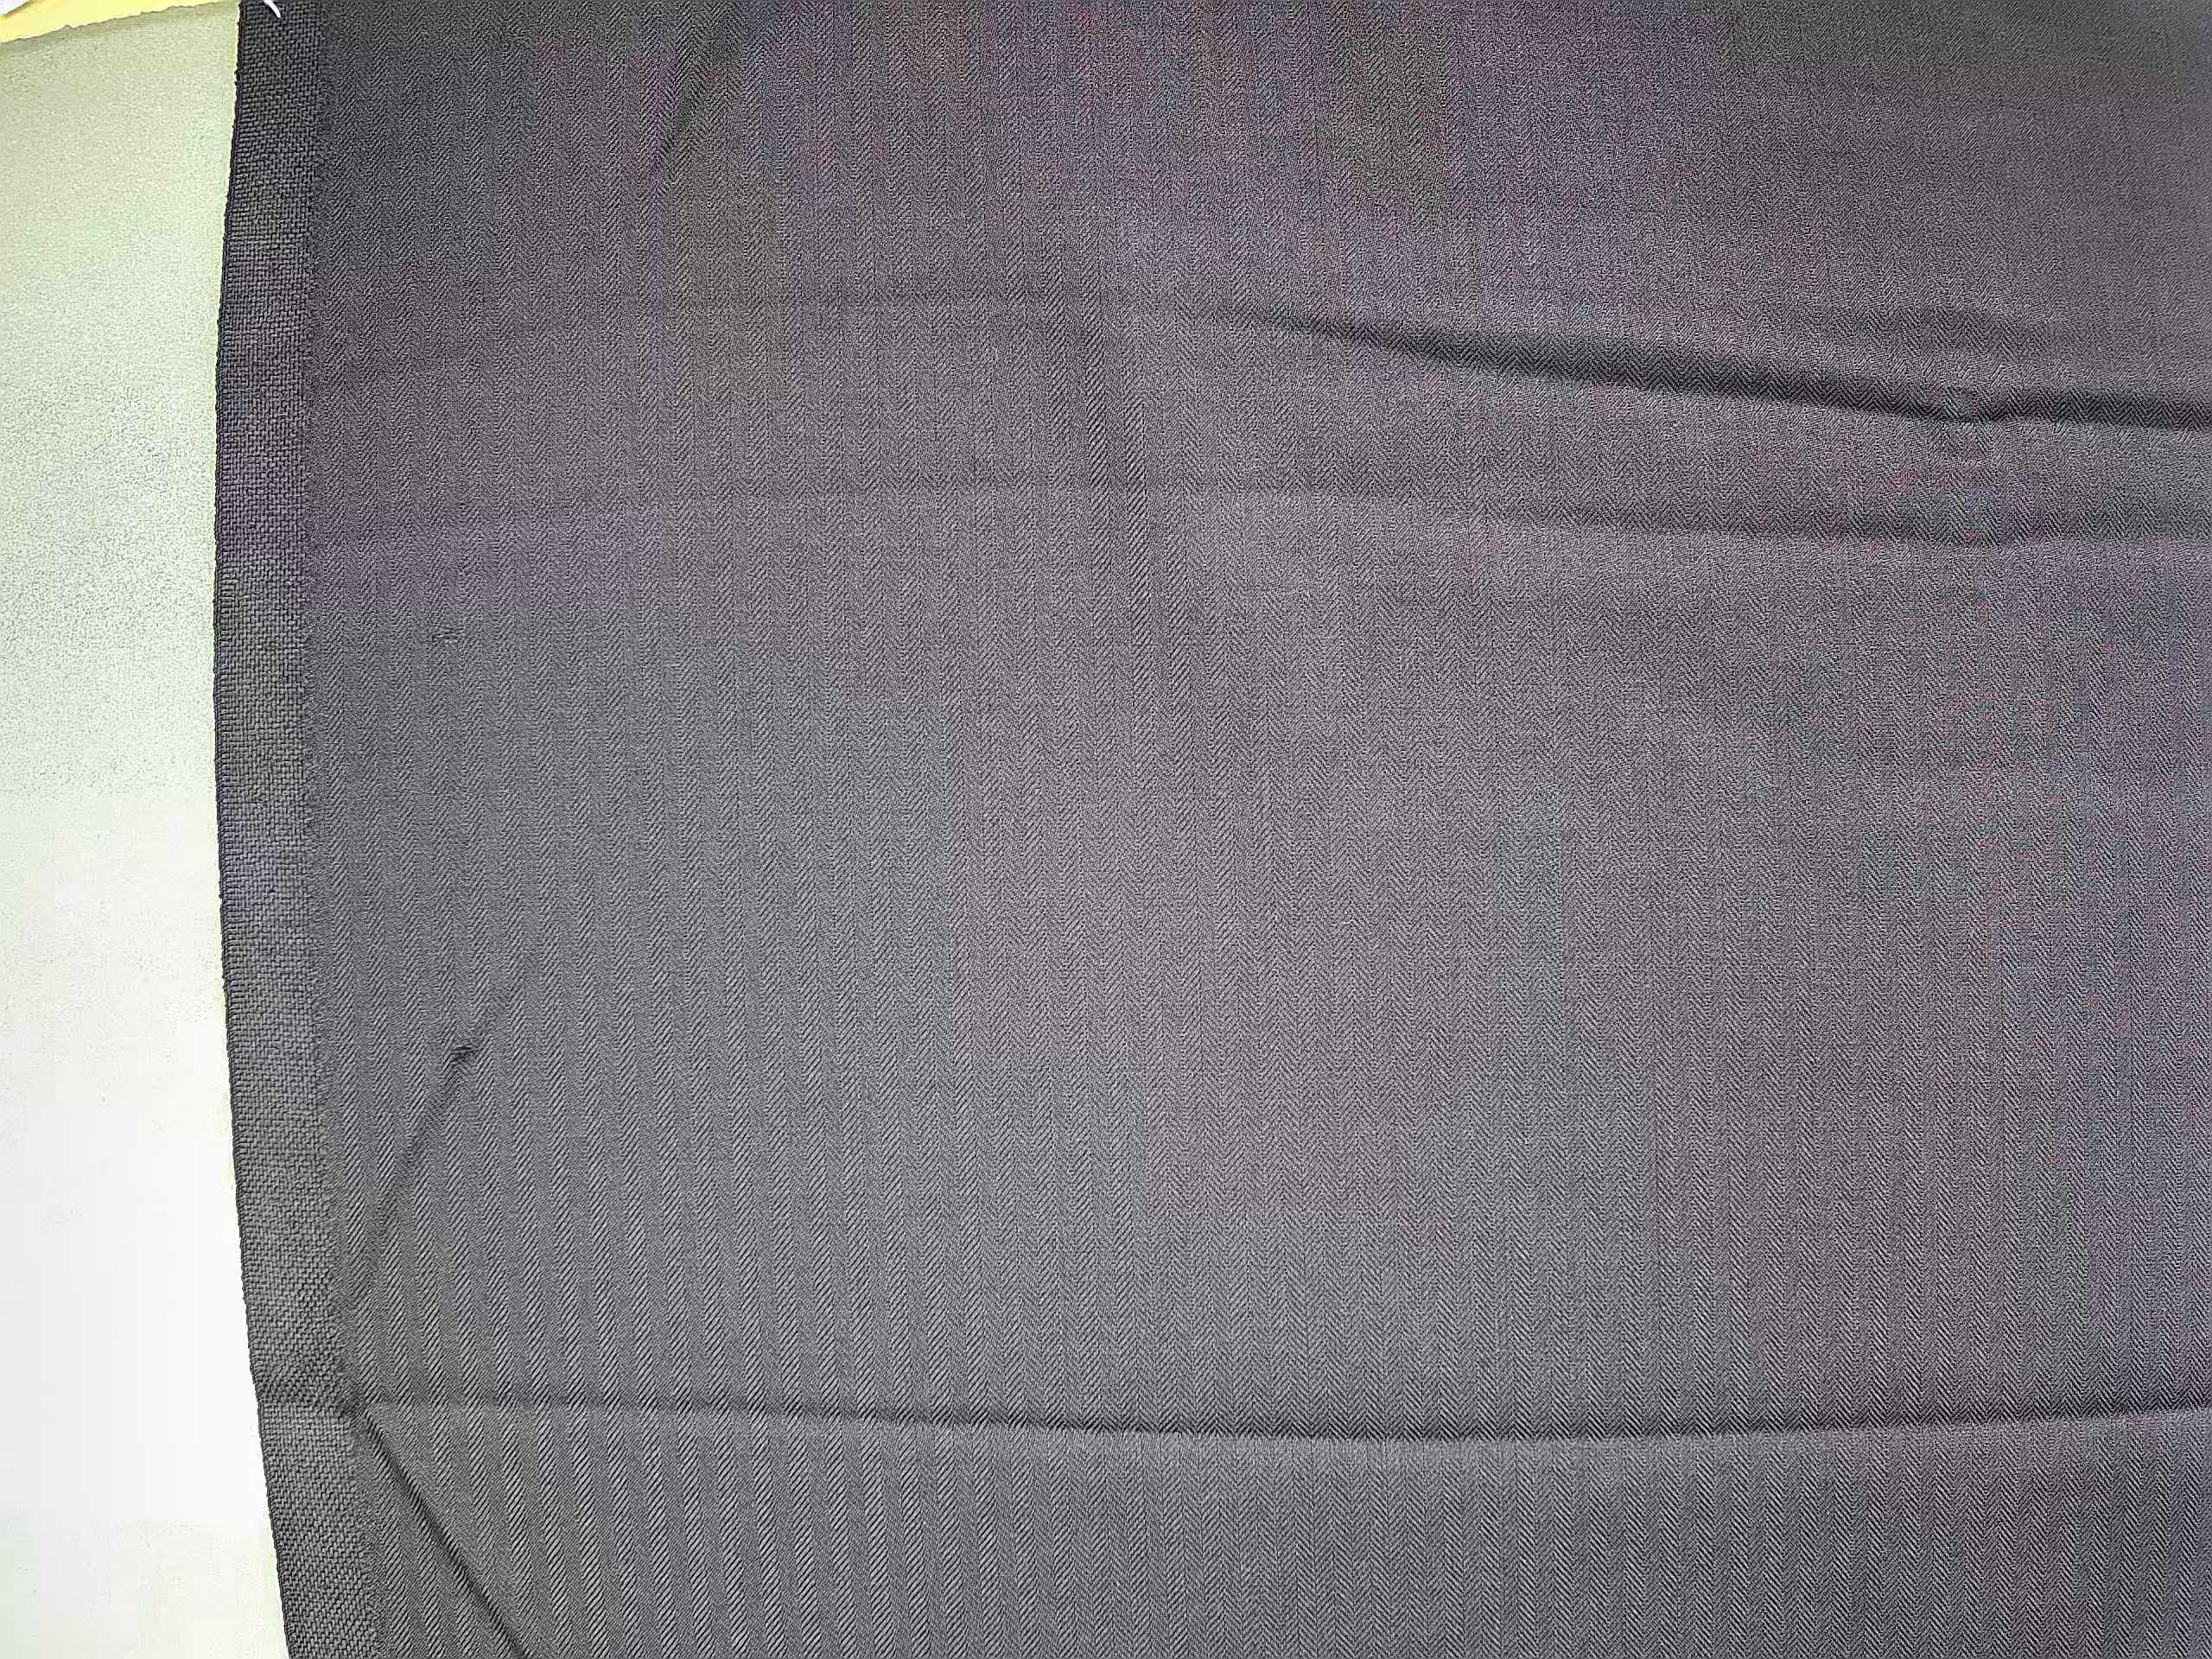rubbing-hole: (434, 1028, 491, 1082)
